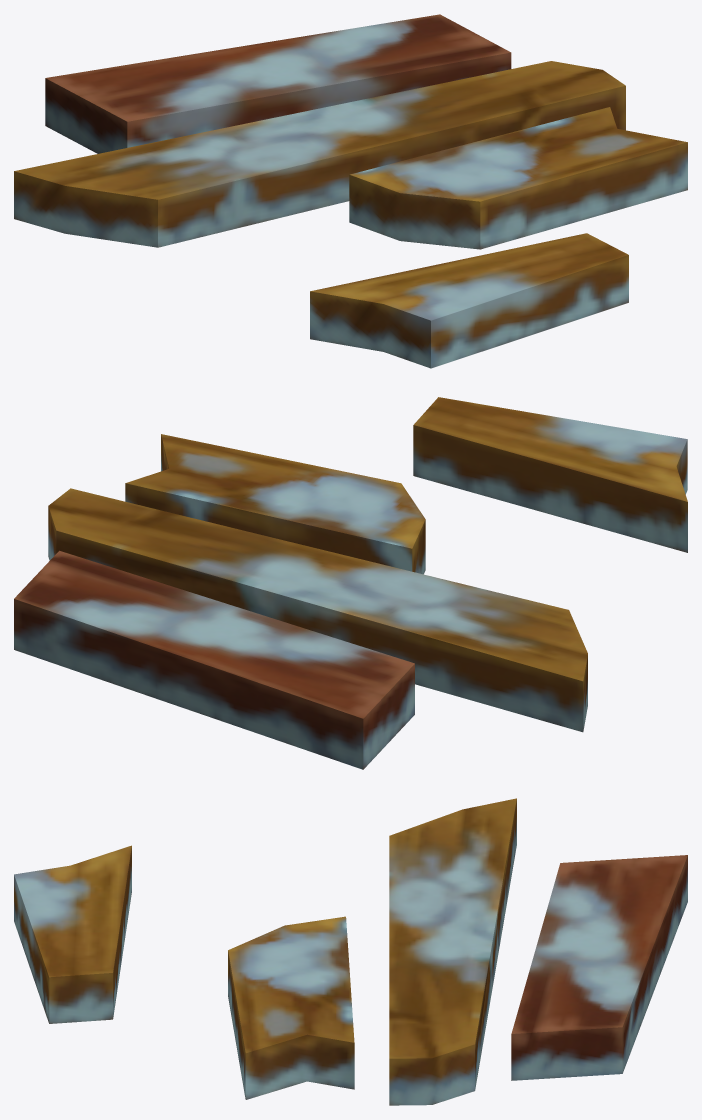
Rendered from Stage_BingYuan_DiBan.FBX.
3 renders of one model, top to bottom at view 1: azimuth 30°, elevation 25°; view 2: azimuth 150°, elevation 25°; view 3: azimuth 270°, elevation 25°, orthographic. The views are drawn at different scales.
Visible parts, largest first — view 1: Stage_BingYuan_DiBan; view 2: Stage_BingYuan_DiBan; view 3: Stage_BingYuan_DiBan.
Part boxes in pixels (x1,y1,x2,y2): Stage_BingYuan_DiBan: (14, 14, 687, 368); Stage_BingYuan_DiBan: (14, 397, 687, 769); Stage_BingYuan_DiBan: (14, 798, 687, 1105).
Size of the model in its own units: 232 by 19.42 by 253.
